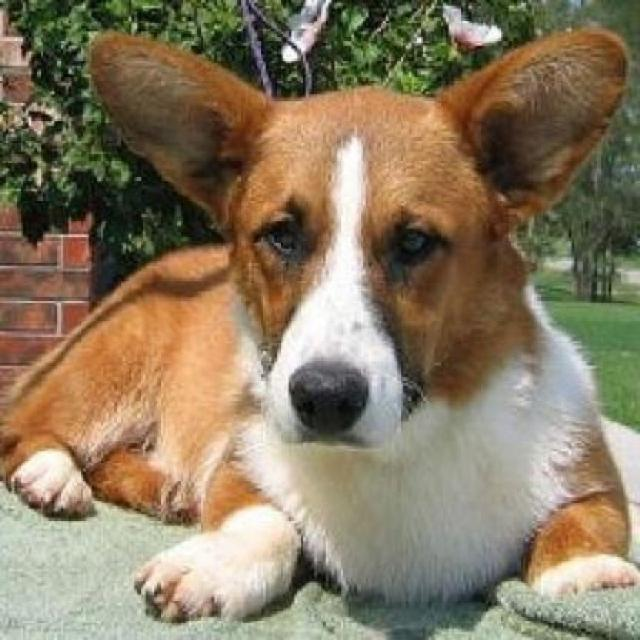Dog: (7, 28, 638, 635)
